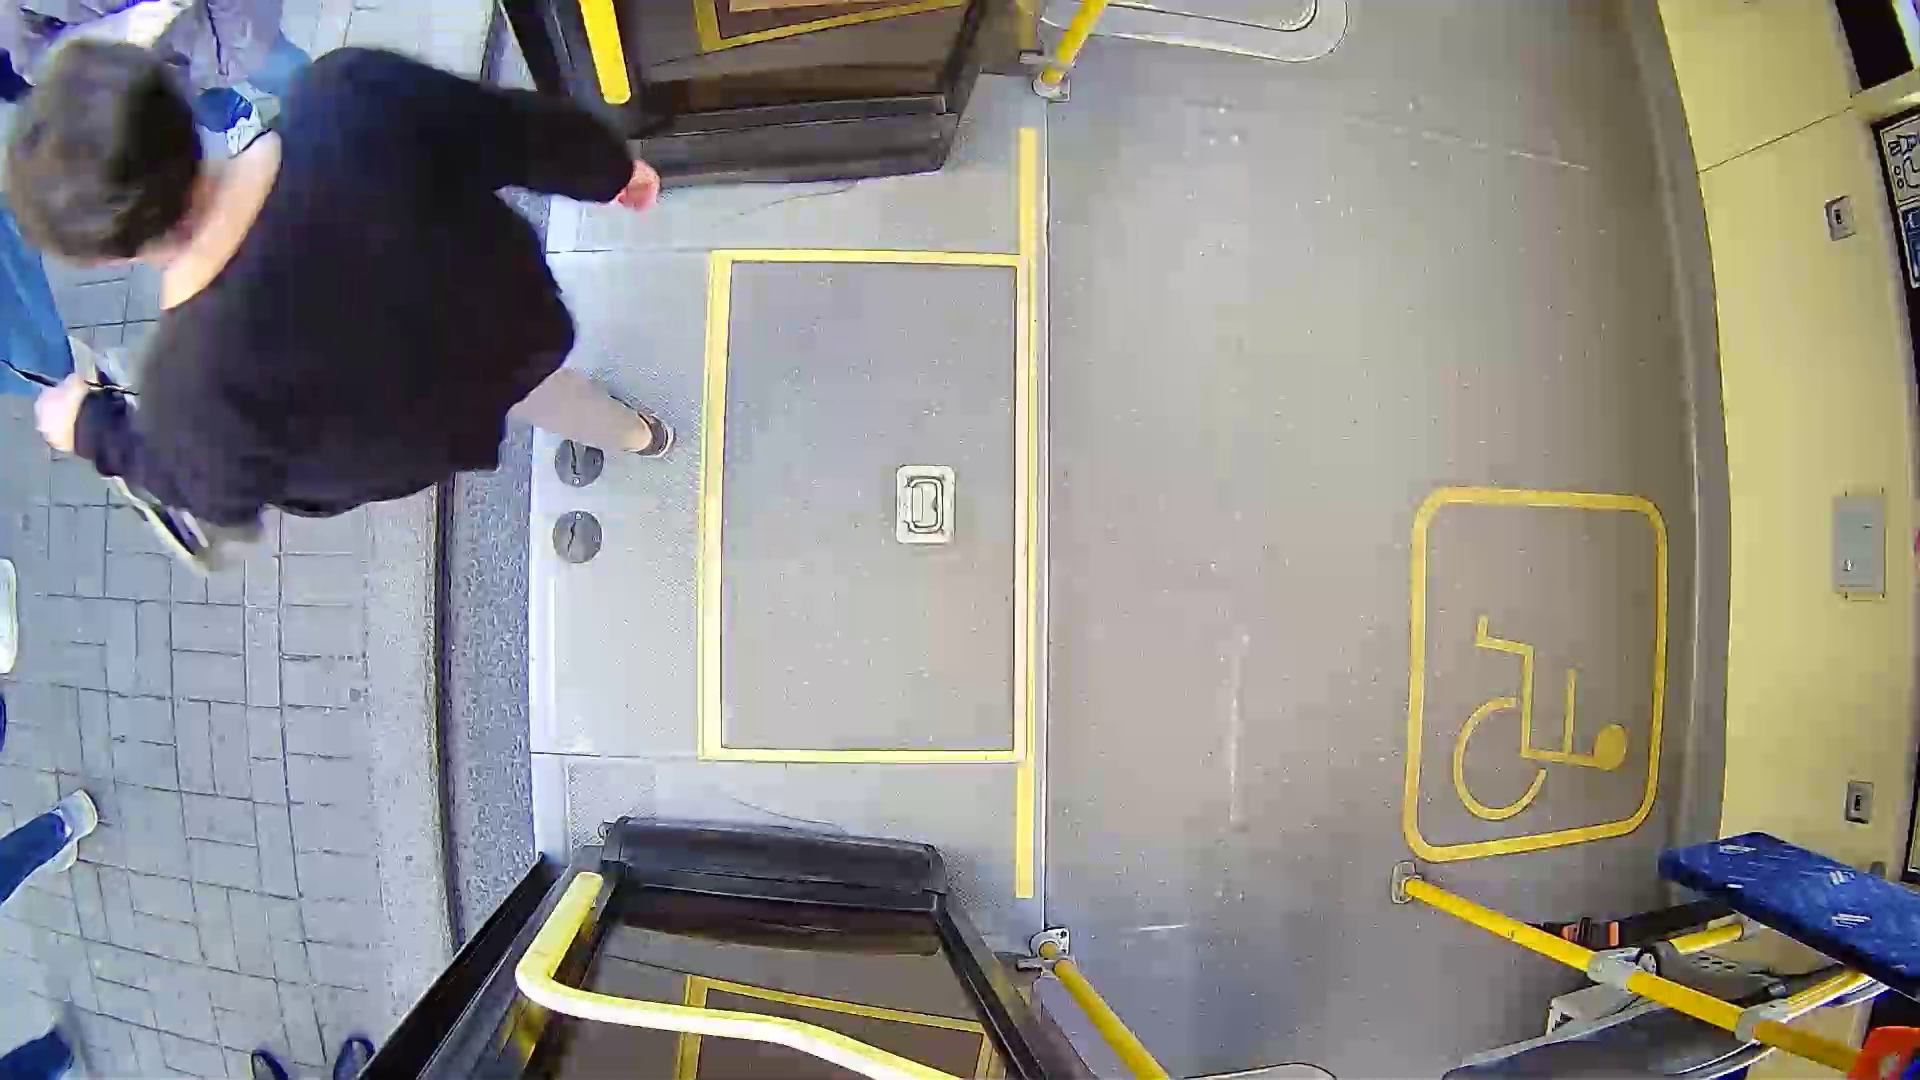person: (51, 45, 727, 504)
